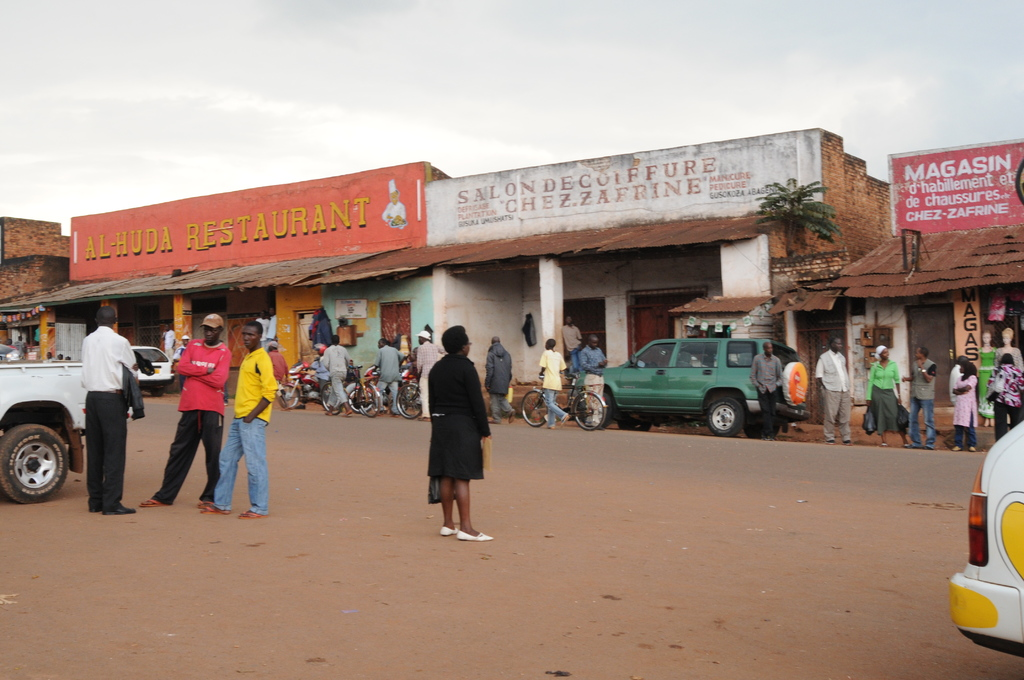Car: (573, 313, 812, 439), (948, 420, 1023, 656), (128, 340, 175, 397)
